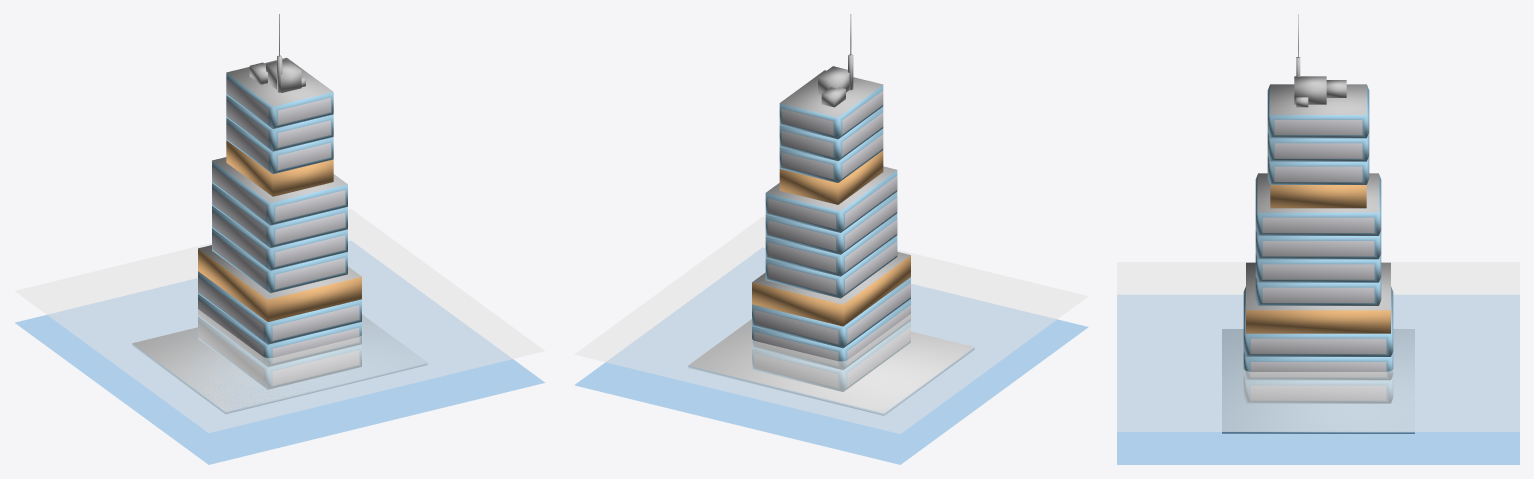
Rendered from city.glb.
3 views of the same model, side by side, from view 1: azimuth 30°, elevation 25°; view 2: azimuth 150°, elevation 25°; view 3: azimuth 270°, elevation 25° (orthographic). The views are drawn at different scales.
Visible parts, largest first — view 1: flood_water, flood_water.001, building_main, ground_base, building_roof; view 2: flood_water, building_main, flood_water.001, ground_base, building_roof; view 3: flood_water, flood_water.001, building_main, ground_base, building_roof.
Part boxes in pixels (<box>): flood_water: <box>15,209,544,432</box>; flood_water.001: <box>15,241,544,464</box>; building_main: <box>198,57,361,389</box>; ground_base: <box>132,315,427,413</box>; building_roof: <box>249,14,305,92</box>; flood_water: <box>574,217,1088,433</box>; building_main: <box>752,70,910,391</box>; flood_water.001: <box>575,248,1087,464</box>; ground_base: <box>688,319,974,415</box>; building_roof: <box>818,14,853,107</box>; flood_water: <box>1117,262,1519,431</box>; flood_water.001: <box>1117,295,1519,464</box>; building_main: <box>1243,84,1393,403</box>; ground_base: <box>1222,329,1414,433</box>; building_roof: <box>1294,14,1346,107</box>.
Size of the model in its own units: 50 by 49.8 by 50.
